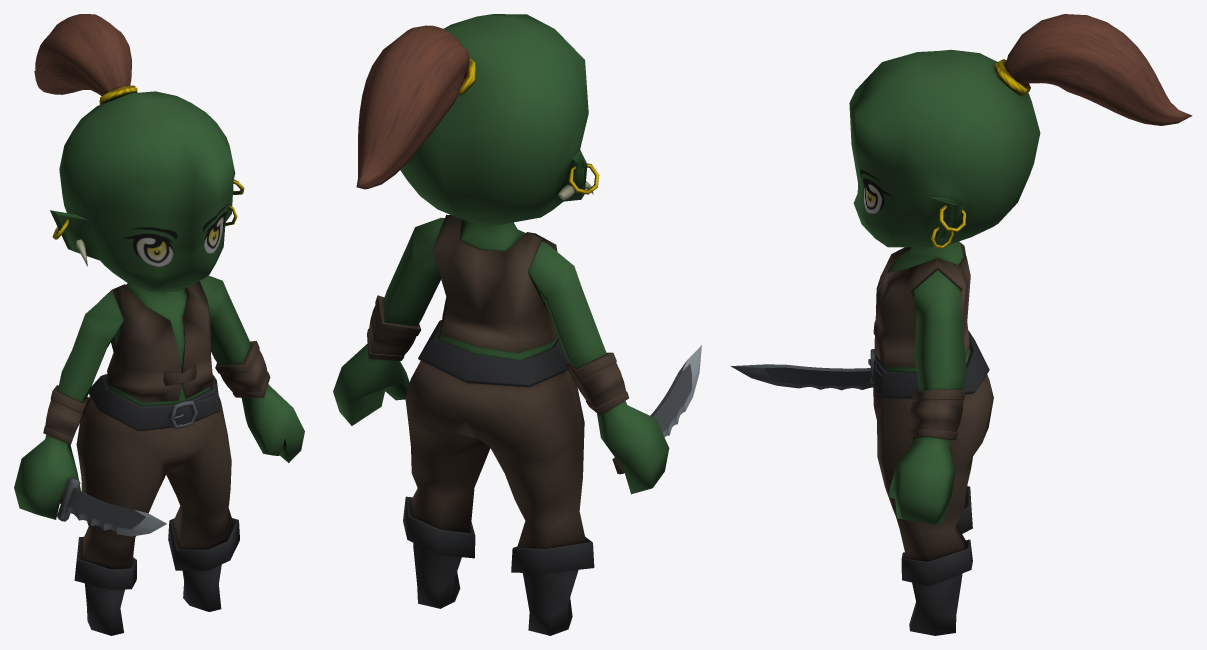
Rendered from Goblin.fbx.
3 renders of one model, left to right at view 1: azimuth 30°, elevation 25°; view 2: azimuth 150°, elevation 25°; view 3: azimuth 270°, elevation 25°, orthographic. The views are drawn at different scales.
Visible parts, largest first — view 1: Goblin_Base.002; view 2: Goblin_Base.002; view 3: Goblin_Base.002.
Part boxes in pixels (<box>): Goblin_Base.002: <box>14,14,304,635</box>; Goblin_Base.002: <box>333,14,701,635</box>; Goblin_Base.002: <box>730,14,1192,635</box>.
Bounding box in the file's own units: 102 × 193 × 138.
